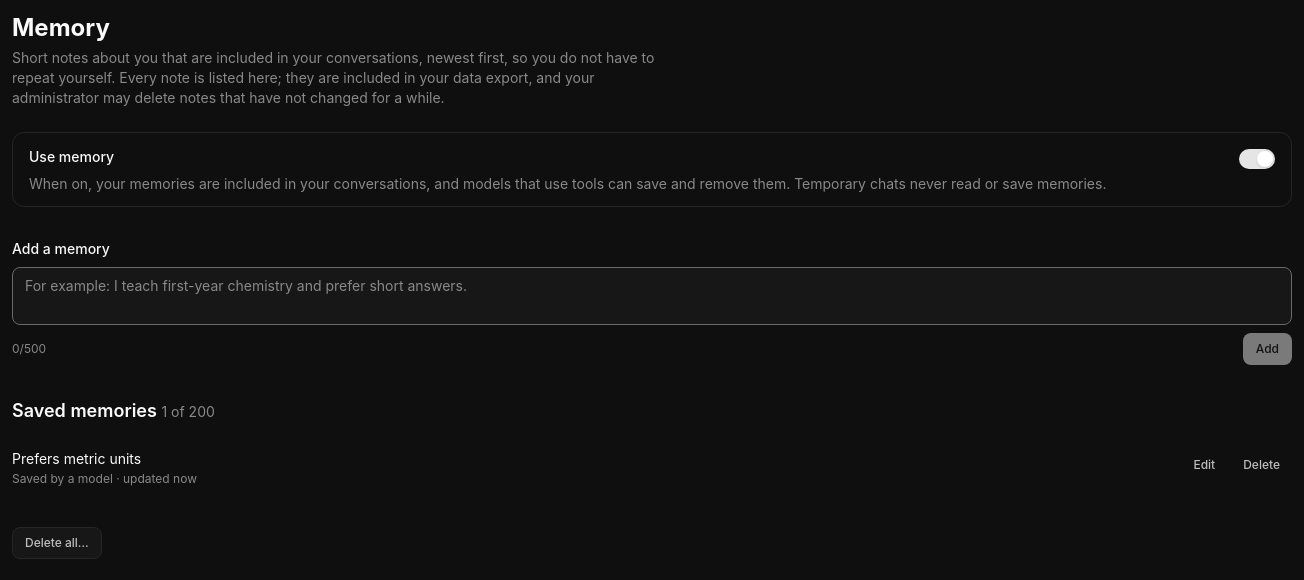
it: Settings → Memory › asks about one memory without "all 1 memory" (#254)
Click the button "Delete all…": (57, 543) [12,527,102,559]
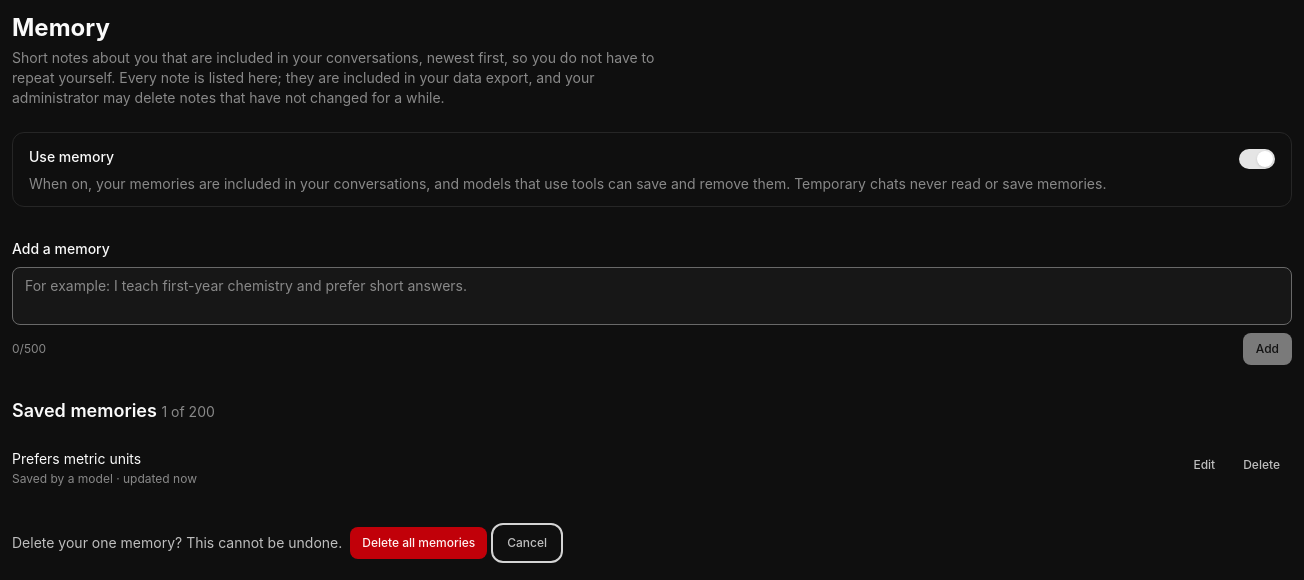
Check: the text "Delete your one memory? This cannot be undone." is shown, box [12,533,342,553]
